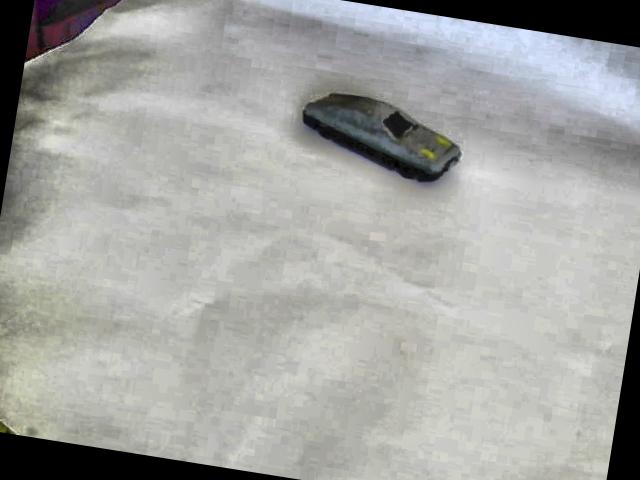normal_car: (286, 80, 466, 190)
